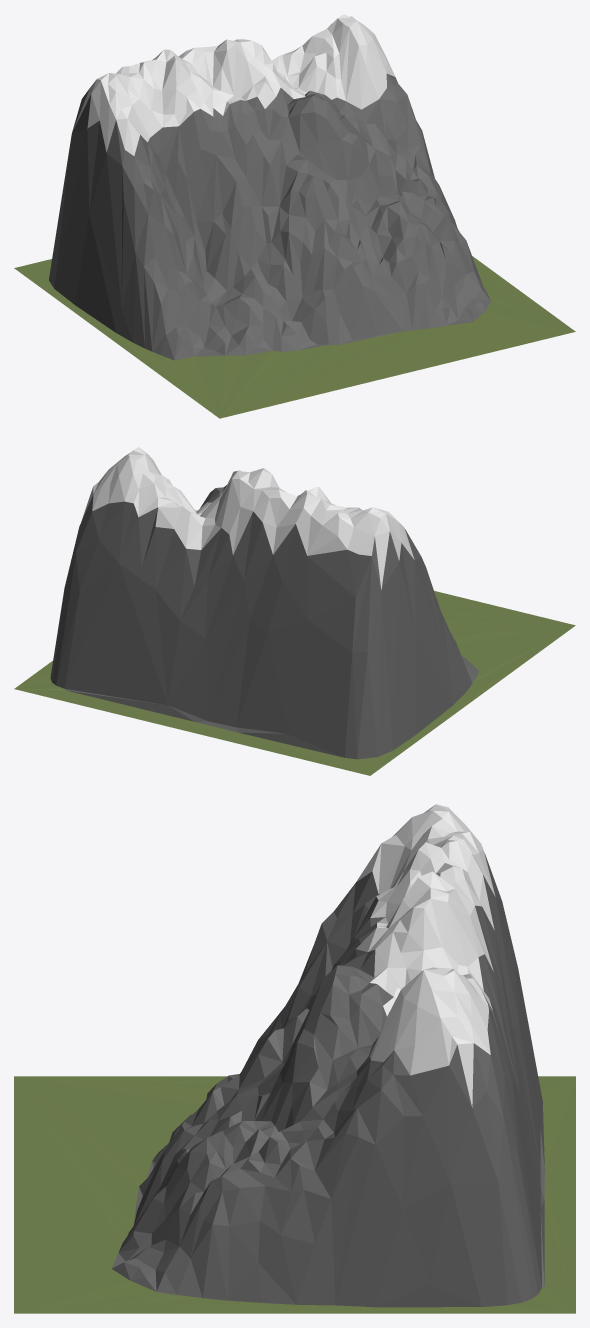
File: Terrain_10.fbx
3 renders of one model, top to bottom at view 1: azimuth 30°, elevation 25°; view 2: azimuth 150°, elevation 25°; view 3: azimuth 270°, elevation 25°, orthographic. The views are drawn at different scales.
Visible parts, largest first — view 1: Terrain_10; view 2: Terrain_10; view 3: Terrain_10.
Boxes of the visible parts, x1,y1,x2,y2 form: Terrain_10: [14, 14, 575, 418]; Terrain_10: [14, 447, 575, 775]; Terrain_10: [14, 804, 575, 1313].
Bounding box in the file's own units: 20000 × 12234 × 20000.
